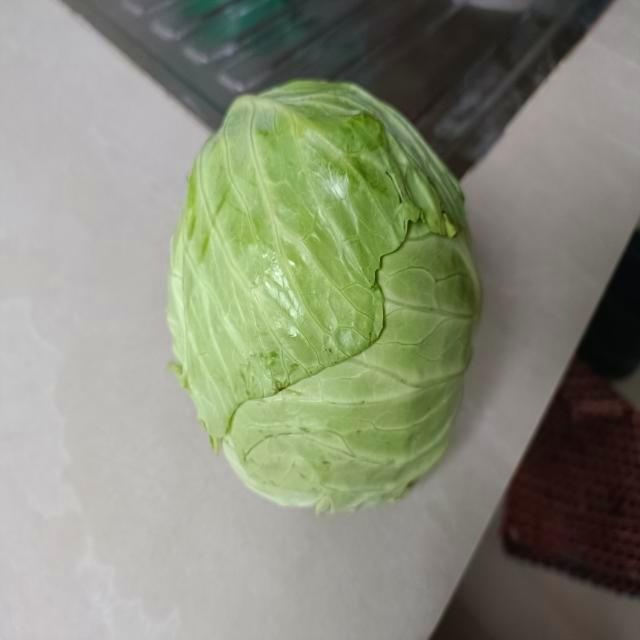cabbage: (162, 74, 488, 517)
